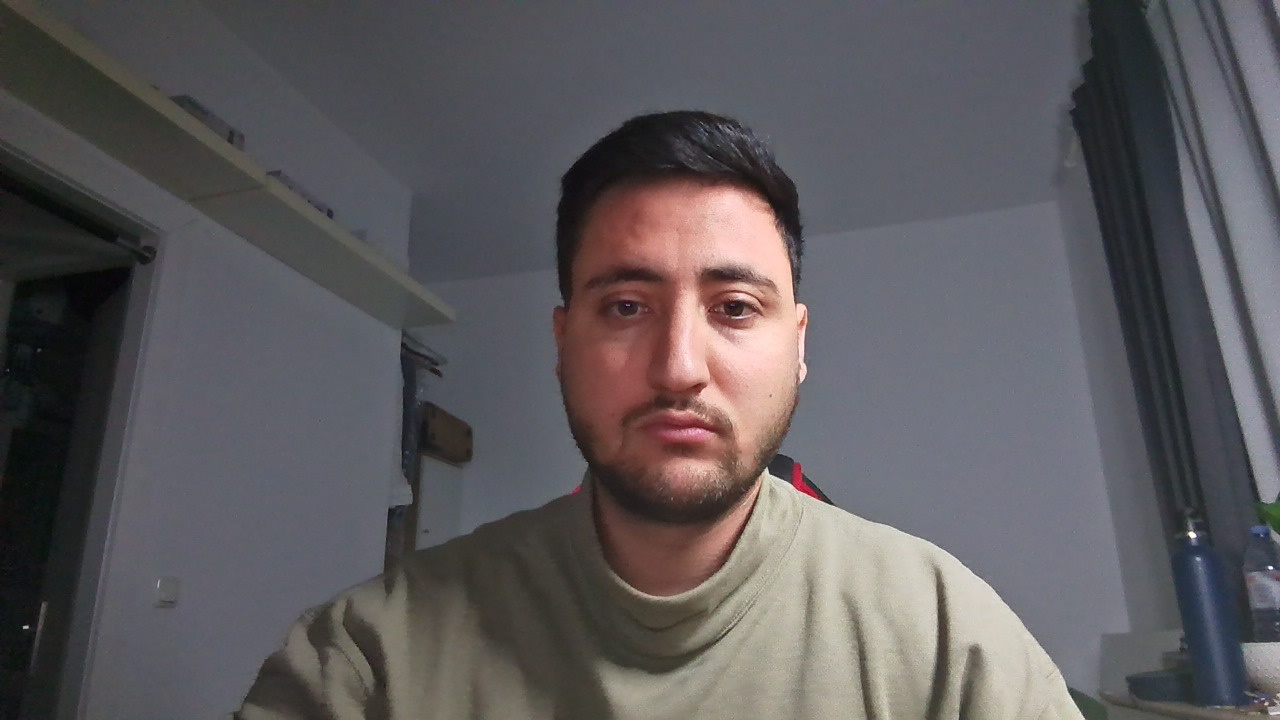Wasserflasche: (1122, 482, 1261, 713)
me: (486, 83, 884, 541)
